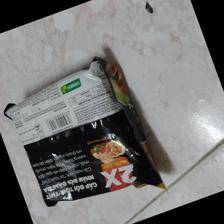3mien: (3, 56, 169, 208)
